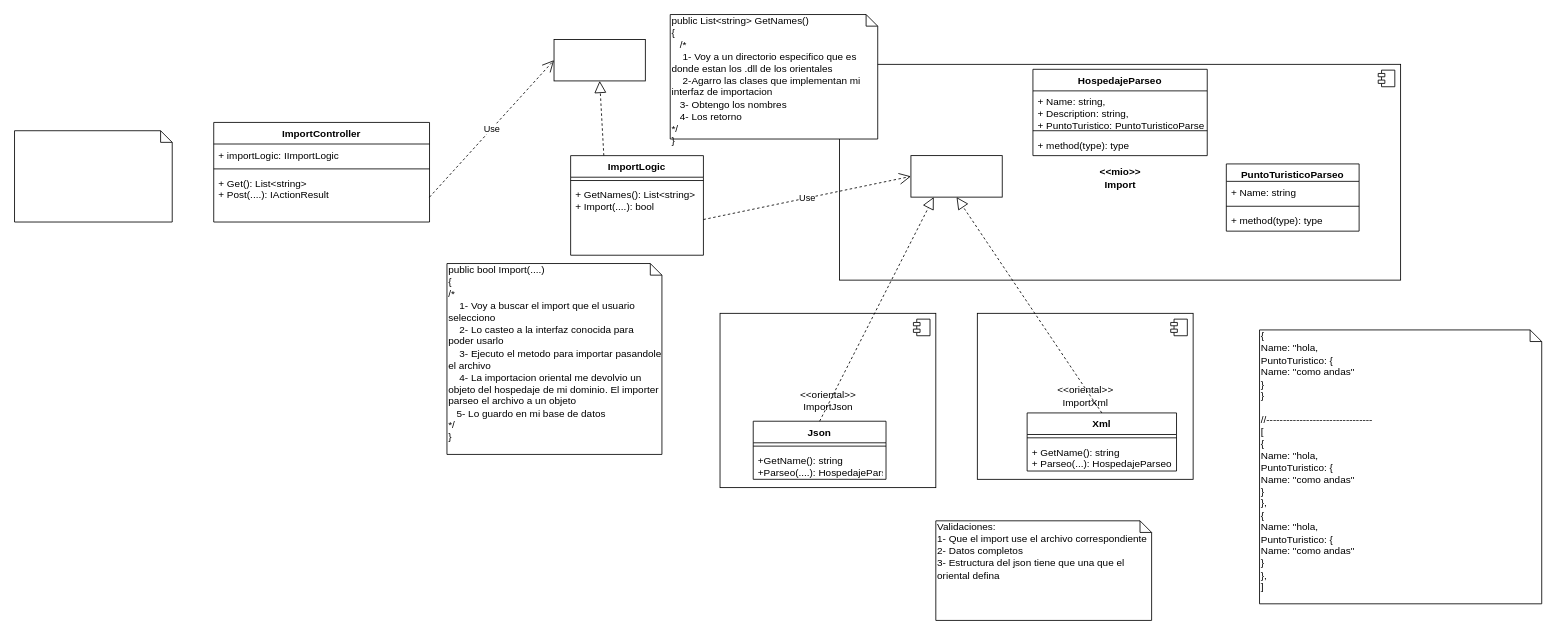
This 1556x635 diagram has some shape labels left out. Here are the shapes that lost their labels. From the top down, the centre of each, then its label:
At (599,60): "«interface» ImportLogic".
At (93,176): "El Get me retorna los nombres de las importaciones".
At (956,176): "«interface» ImportHospedaje".
